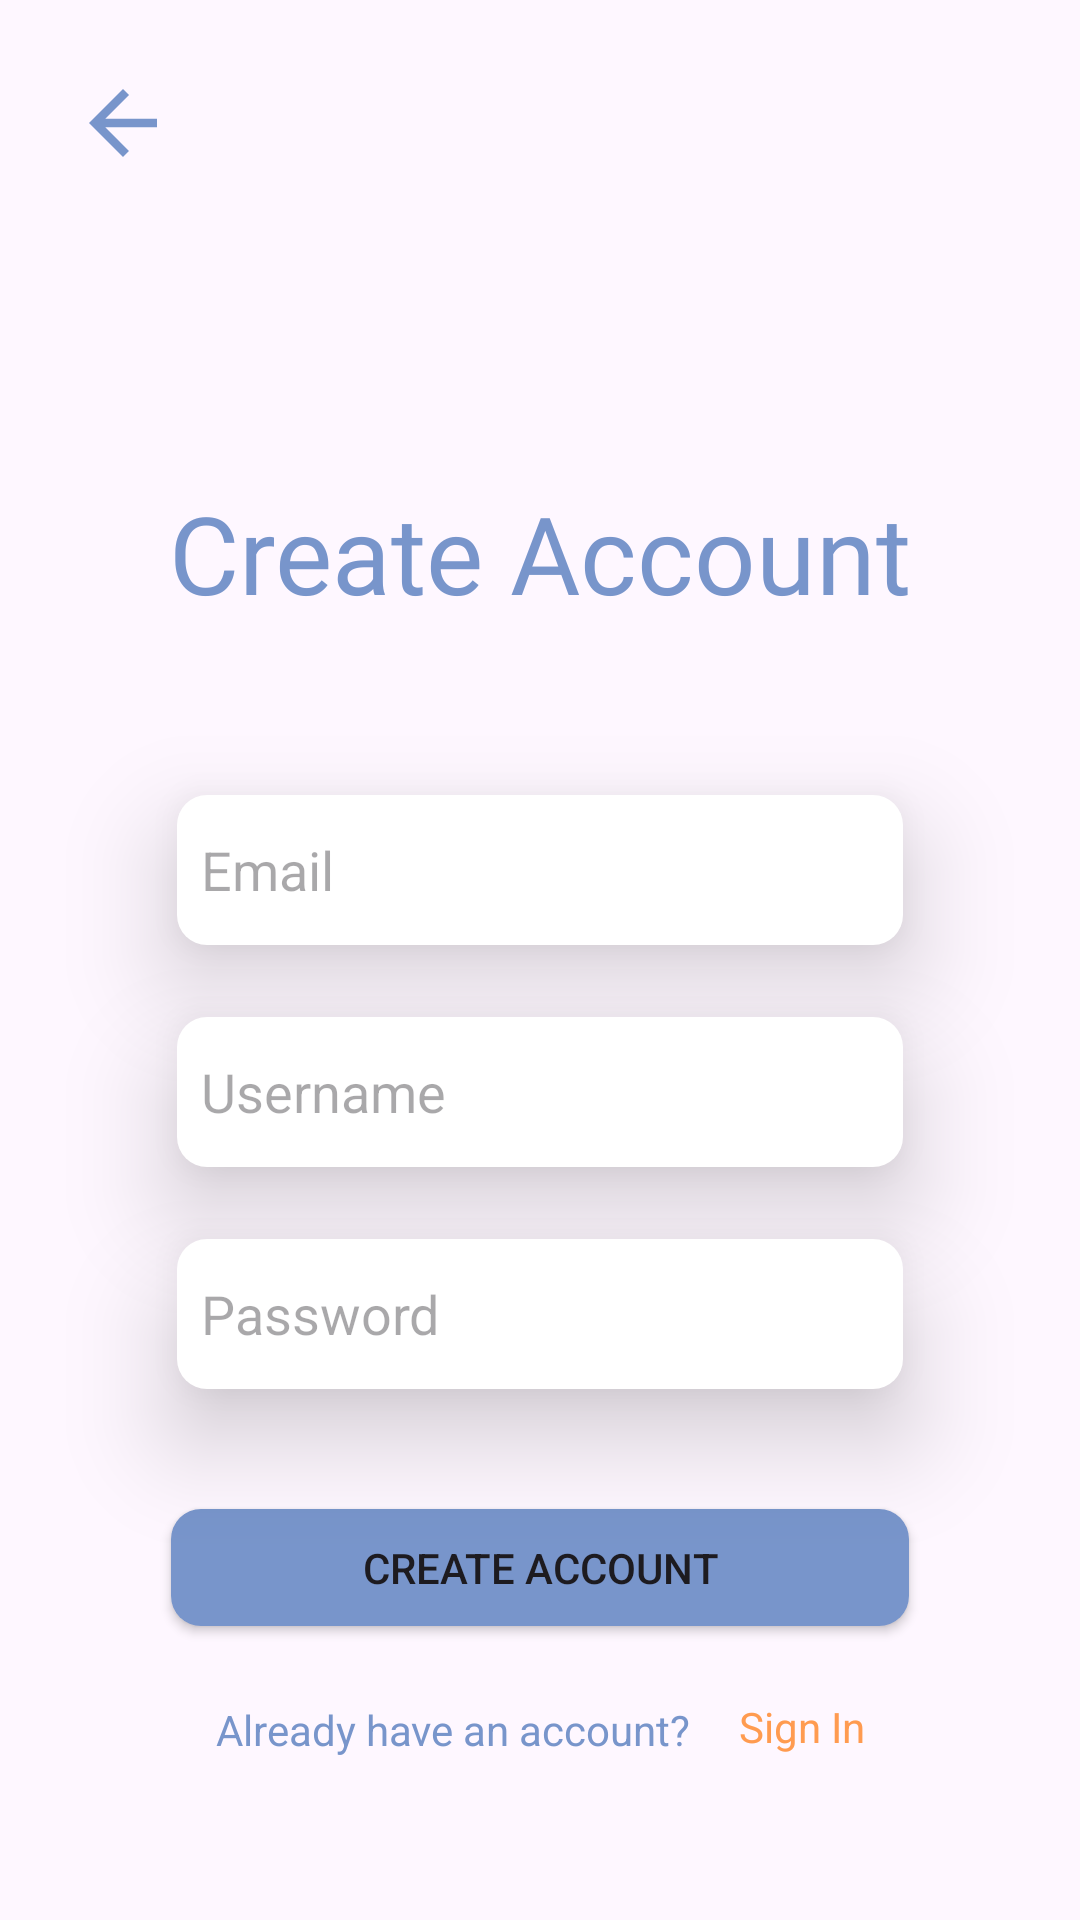

Locate icon controls on the screen. Image size 1080px x 1920px, boxes as bbox=(x1, y1, x2, y2).
arrow back: bbox=(89, 89, 157, 157)
